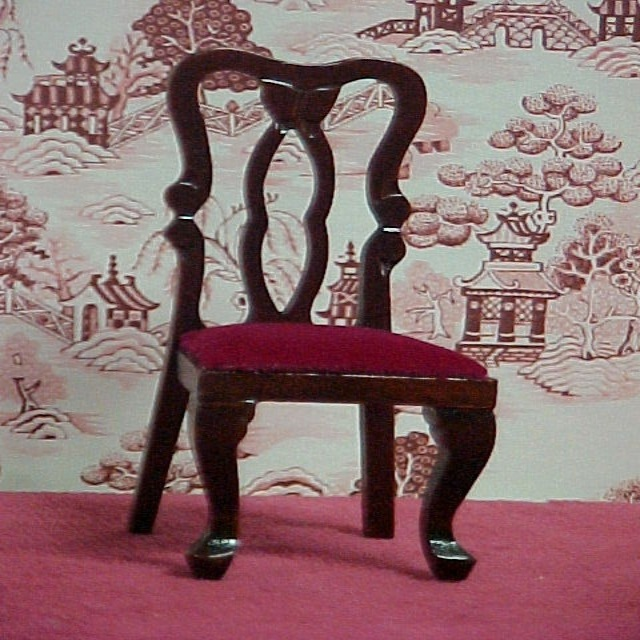obstacle: (128, 49, 495, 580)
